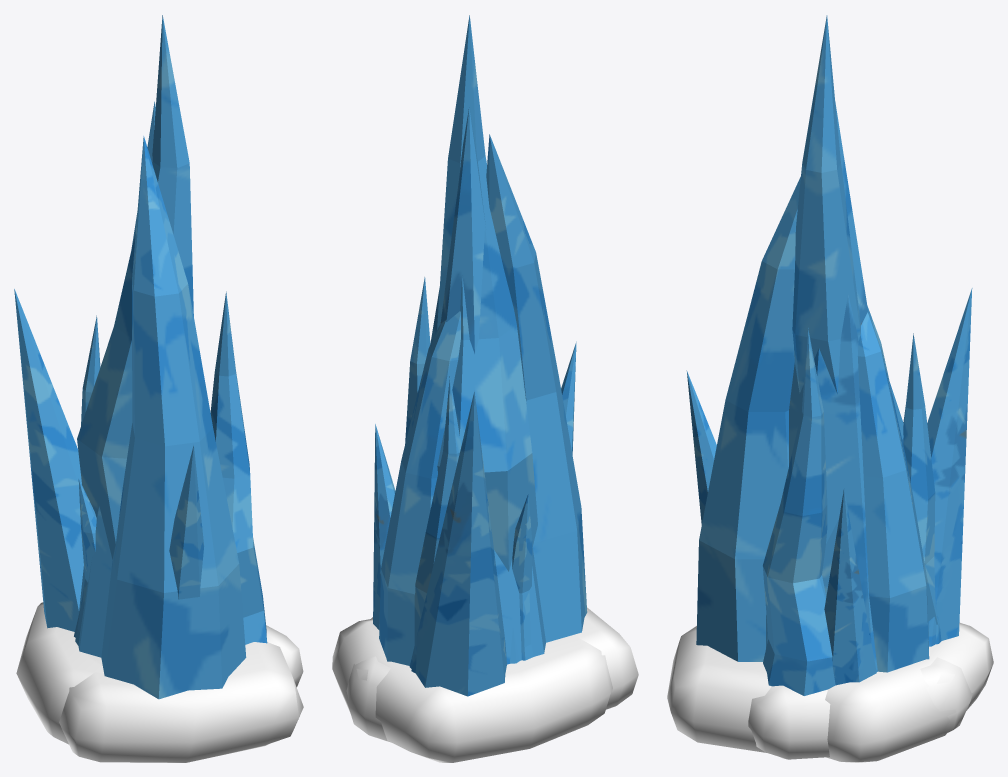
Rendered from Ice Stalagmite.fbx.
The picture shows the model from 3 angles, left to right: view 1: azimuth 30°, elevation 25°; view 2: azimuth 150°, elevation 25°; view 3: azimuth 270°, elevation 25°; orthographic projection.
Visible parts, largest first — view 1: Ice_Stalagmite_2, Snow_Base (×3), Ice_Stalagmite, Ice_Stalagmite_3; view 2: Ice_Stalagmite_2, Ice_Stalagmite_3, Snow_Base (×3), Ice_Stalagmite; view 3: Ice_Stalagmite_2, Ice_Stalagmite, Snow_Base (×3), Ice_Stalagmite_3.
Boxes of the visible parts, bbox=[...] form: Ice_Stalagmite_2: bbox=[75, 136, 246, 699]; Snow_Base (×3): bbox=[16, 602, 303, 762]; Ice_Stalagmite: bbox=[74, 15, 267, 644]; Ice_Stalagmite_3: bbox=[14, 101, 204, 657]; Ice_Stalagmite_2: bbox=[379, 134, 587, 665]; Ice_Stalagmite_3: bbox=[373, 107, 576, 696]; Snow_Base (×3): bbox=[332, 607, 638, 762]; Ice_Stalagmite: bbox=[405, 15, 537, 673]; Ice_Stalagmite_2: bbox=[696, 176, 929, 672]; Ice_Stalagmite: bbox=[762, 15, 941, 695]; Snow_Base (×3): bbox=[667, 623, 993, 762]; Ice_Stalagmite_3: bbox=[686, 102, 972, 685].
Bounding box in the file's own units: 5.2 × 13.92 × 5.84.
